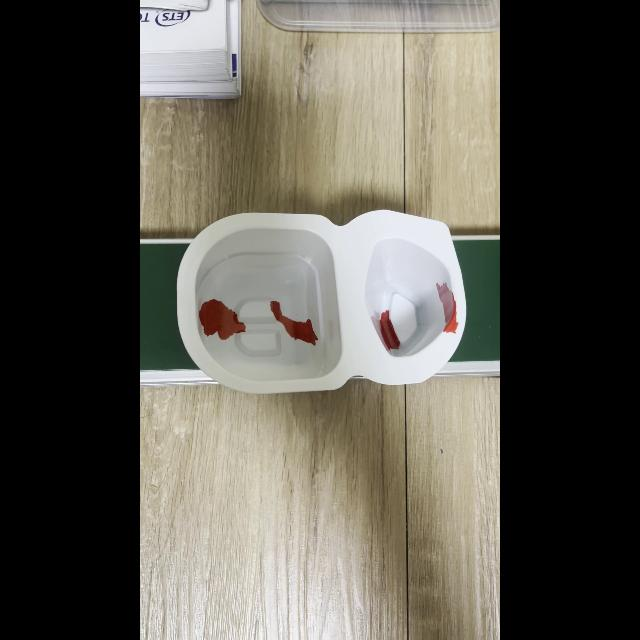dirty: (178, 210, 462, 390)
